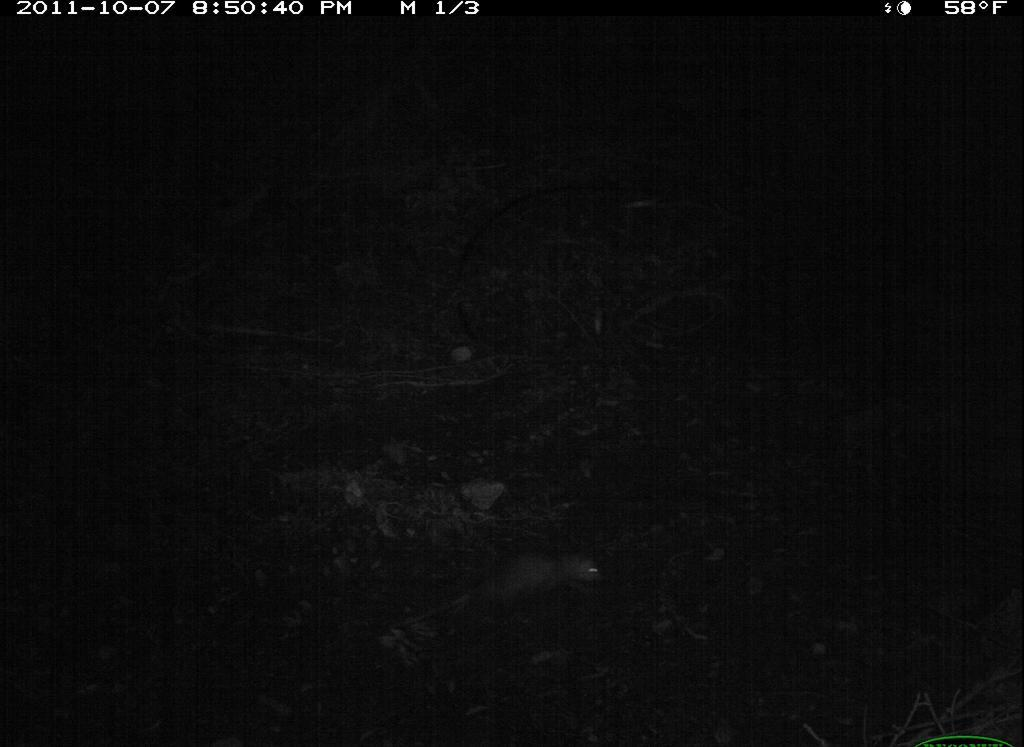opossum: (393, 539, 615, 636)
